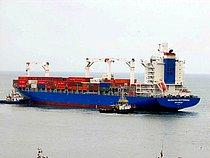Ship: (10, 40, 203, 117)
